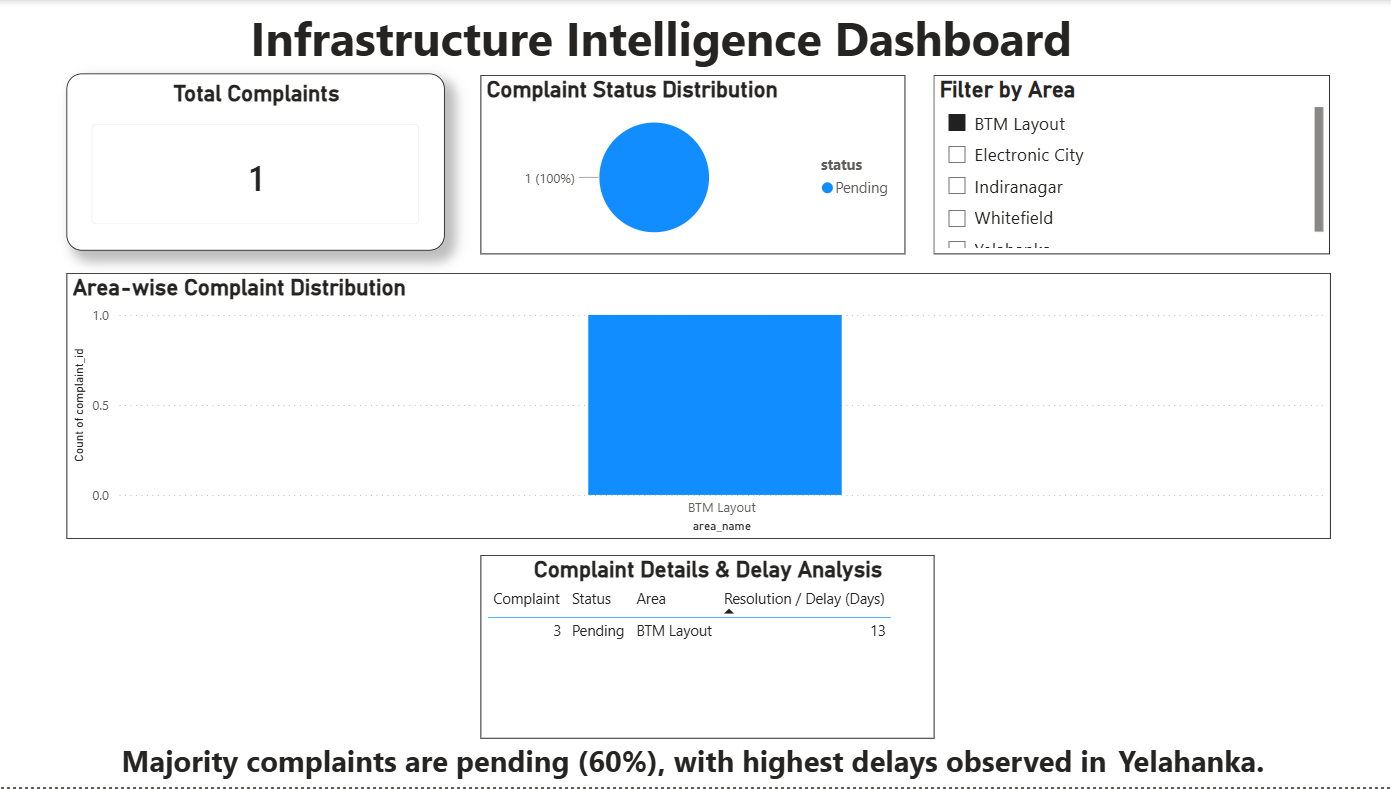

What the dashboard file says about the page in this screenshot:
{"tool":"powerbi","page":{"name":"Page 1","canvas":[1280,720],"ordinal":0},"visuals":[{"type":"cardVisual","title":"Total Complaints","fields":{"Data":["Count(infra_system complaints.complaint_id)"]},"box":[66.8,66.8,346.3,162],"z":0},{"type":"pieChart","title":"Complaint Status Distribution","fields":{"Category":["infra_system complaints.status"],"Y":["Count(infra_system complaints.complaint_id)"]},"box":[445.6,68.9,388.9,164.1],"z":1000},{"type":"clusteredColumnChart","title":"Area-wise Complaint Distribution","fields":{"Category":["infra_system locations.area_name"],"Y":["Count(infra_system complaints.complaint_id)"]},"box":[66.8,249.1,1156.5,243],"z":2000},{"type":"textbox","box":[0,0,1222.5,87.5],"z":3000},{"type":"tableEx","title":"Complaint Details & Delay Analysis","fields":{"Values":["Sum(infra_system complaints.complaint_id)","infra_system complaints.status","infra_system locations.area_name","Sum(infra_system complaints.Delay Days)"]},"box":[445.6,508.4,415.2,168.1],"z":4000},{"type":"textbox","box":[0,672.6,1280.5,47.3],"z":5000},{"type":"slicer","title":"Filter by Area","fields":{"Values":["infra_system locations.area_name"]},"box":[860.8,68.9,362.5,164.1],"z":5001}]}

Visuals, with their boxes in screenshot pixels (x1, y1, x2, y2), scaled from the page's 1280x720 canvas onto the 1391x789 screenshot:
"Total Complaints" cardVisual: bbox=[73, 73, 449, 251]
"Complaint Status Distribution" pieChart: bbox=[484, 76, 907, 255]
"Area-wise Complaint Distribution" clusteredColumnChart: bbox=[73, 273, 1329, 539]
textbox: bbox=[0, 0, 1329, 96]
"Complaint Details & Delay Analysis" tableEx: bbox=[484, 557, 935, 741]
textbox: bbox=[0, 737, 1390, 788]
"Filter by Area" slicer: bbox=[935, 76, 1329, 255]
